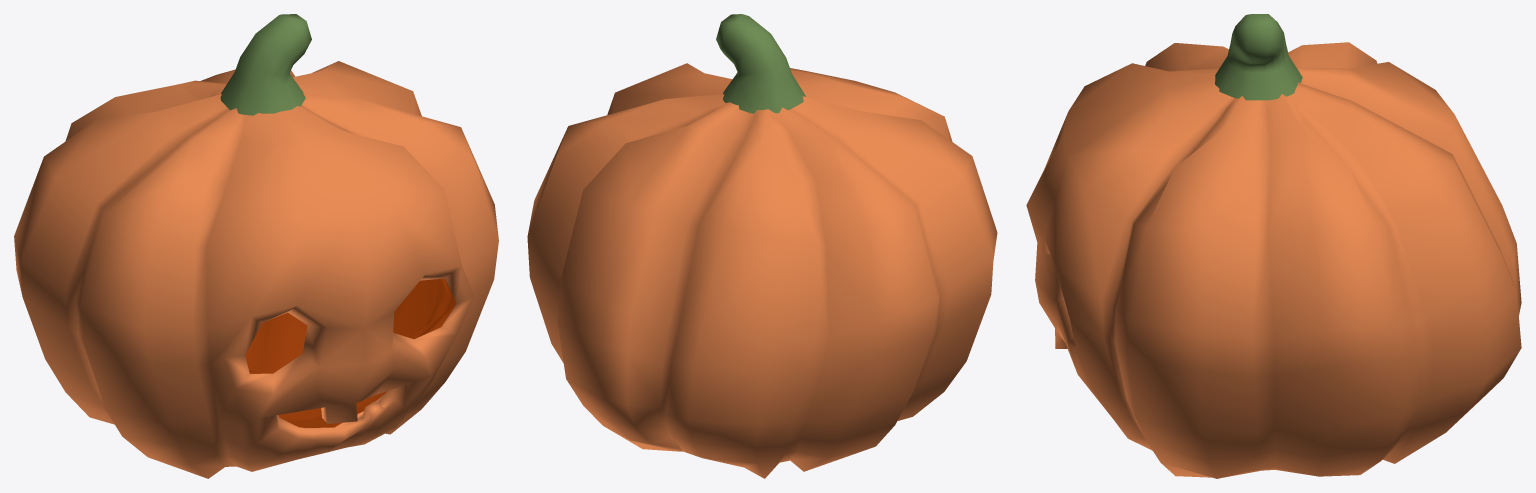
File: pumpkin_2.fbx
3 views of the same model, side by side, from view 1: azimuth 30°, elevation 25°; view 2: azimuth 150°, elevation 25°; view 3: azimuth 270°, elevation 25° (orthographic). The views are drawn at different scales.
Parts seen in each view (by area): view 1: pumpkin_2; view 2: pumpkin_2; view 3: pumpkin_2.
Boxes of the visible parts, x1,y1,x2,y2 form: pumpkin_2: [14, 14, 498, 478]; pumpkin_2: [527, 14, 997, 478]; pumpkin_2: [1026, 14, 1521, 478].
Bounding box in the file's own units: 129 × 124 × 125.
